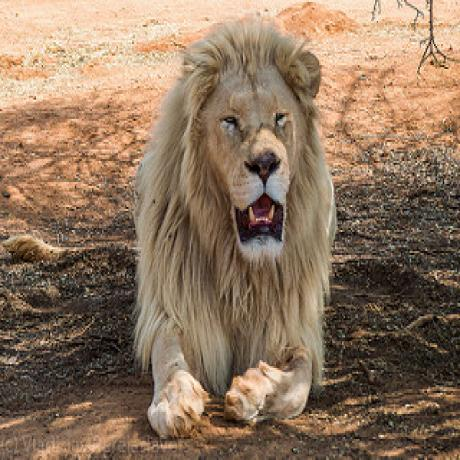Lion: (133, 12, 337, 438)
